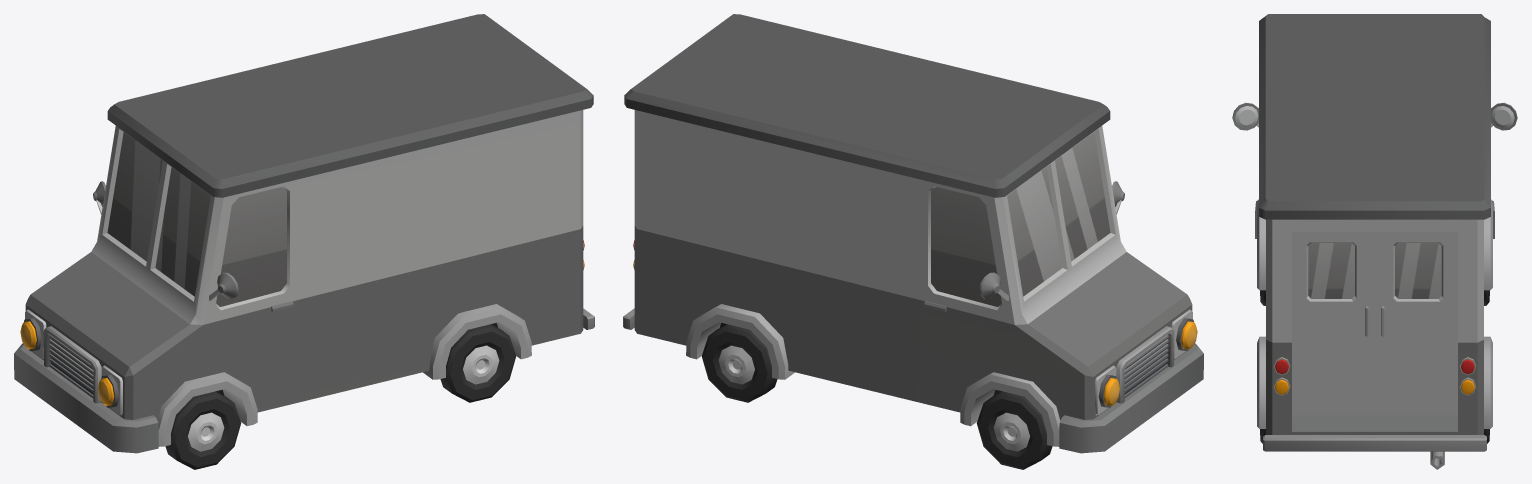
Rendered from Car_16_J.gltf.
The picture shows the model from 3 angles, left to right: view 1: azimuth 30°, elevation 25°; view 2: azimuth 150°, elevation 25°; view 3: azimuth 270°, elevation 25°; orthographic projection. The views are drawn at different scales.
Visible parts, largest first — view 1: Car_16_J, RL, FL; view 2: Car_16_J, RR, FR; view 3: Car_16_J.
Part boxes in pixels (x1=…): Car_16_J: x1=14, y1=14, x2=594, y2=453; RL: x1=440, y1=324, x2=516, y2=402; FL: x1=165, y1=391, x2=241, y2=469; Car_16_J: x1=623, y1=14, x2=1203, y2=453; RR: x1=701, y1=324, x2=777, y2=402; FR: x1=976, y1=391, x2=1052, y2=469; Car_16_J: x1=1232, y1=14, x2=1517, y2=469.
Bounding box in the file's own units: 3.66 × 2.04 × 1.8.
Materials: 4 (4 with a texture image).
